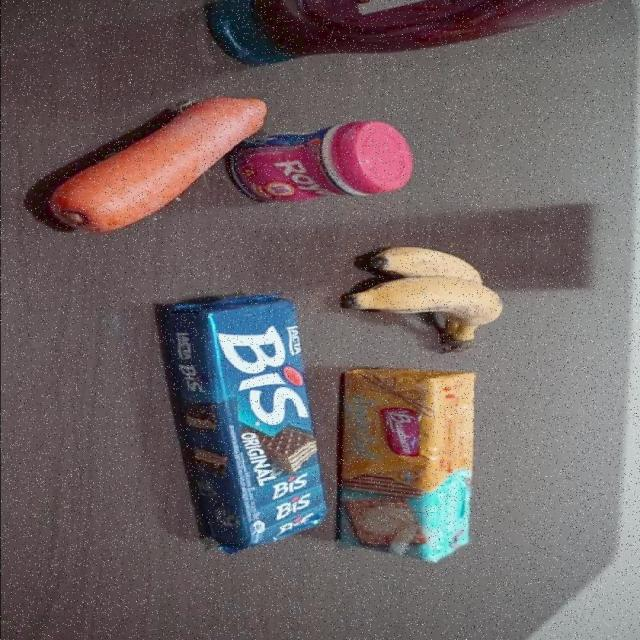Banana: (340, 242, 507, 353)
Carrot: (43, 97, 270, 234)
Cracker: (336, 362, 479, 564)
Ketchup: (202, 0, 626, 68)
Yeast: (226, 119, 415, 205)
